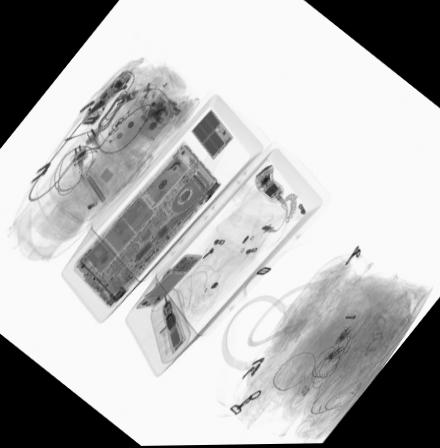Powerbank: (189, 108, 234, 160)
